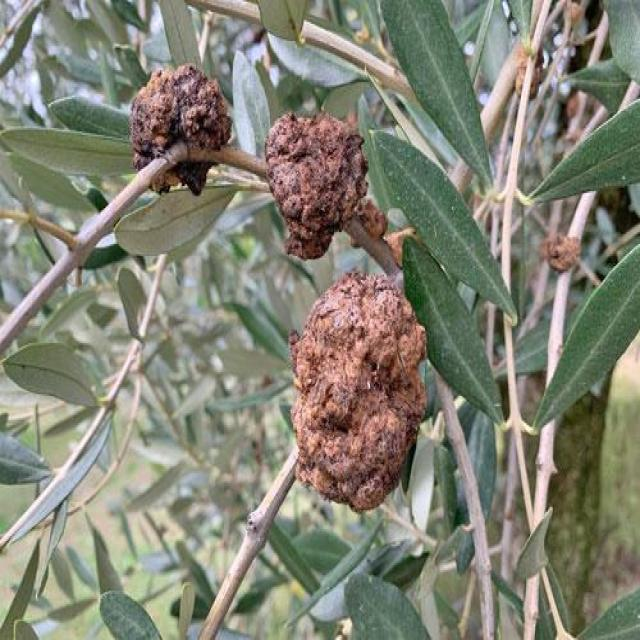Tuberculosis: (291, 271, 425, 500), (264, 111, 391, 253), (130, 64, 230, 194), (540, 232, 578, 271)
